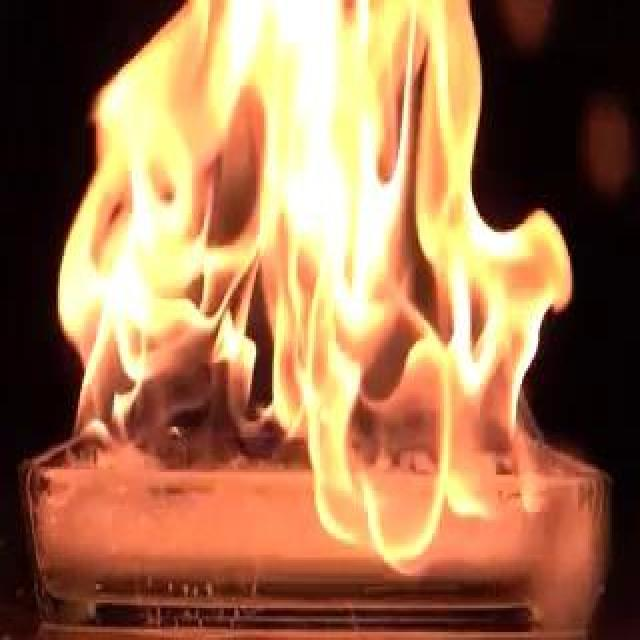Fire: (54, 3, 594, 557)
